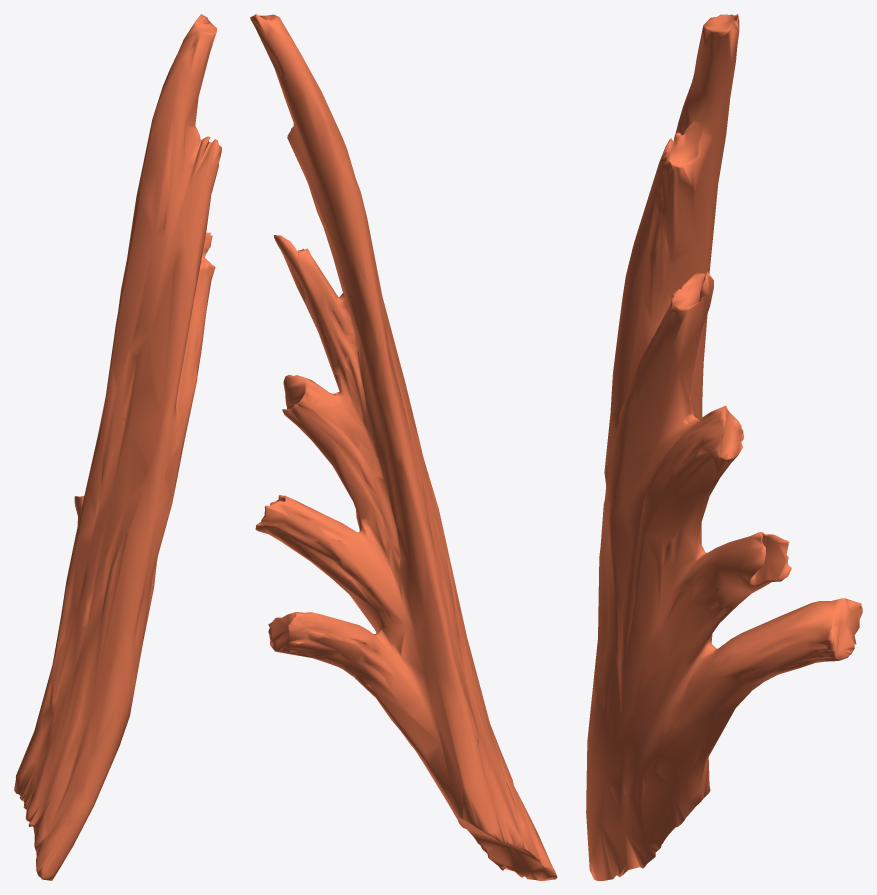
The model's file is Scalene_medius_posterior_right.glb.
3 views of the same model, side by side, from view 1: azimuth 30°, elevation 25°; view 2: azimuth 150°, elevation 25°; view 3: azimuth 270°, elevation 25° (orthographic). The views are drawn at different scales.
Visible parts, largest first — view 1: Scalenus_medius_and_posterior.r_Generated_Mesh_From_X3D.235; view 2: Scalenus_medius_and_posterior.r_Generated_Mesh_From_X3D.235; view 3: Scalenus_medius_and_posterior.r_Generated_Mesh_From_X3D.235.
Part boxes in pixels (x1,y1,x2,y2): Scalenus_medius_and_posterior.r_Generated_Mesh_From_X3D.235: (14, 14, 221, 880); Scalenus_medius_and_posterior.r_Generated_Mesh_From_X3D.235: (250, 14, 557, 880); Scalenus_medius_and_posterior.r_Generated_Mesh_From_X3D.235: (586, 14, 862, 880).
Size of the model in its own units: 0.0302 by 0.0992 by 0.025.
